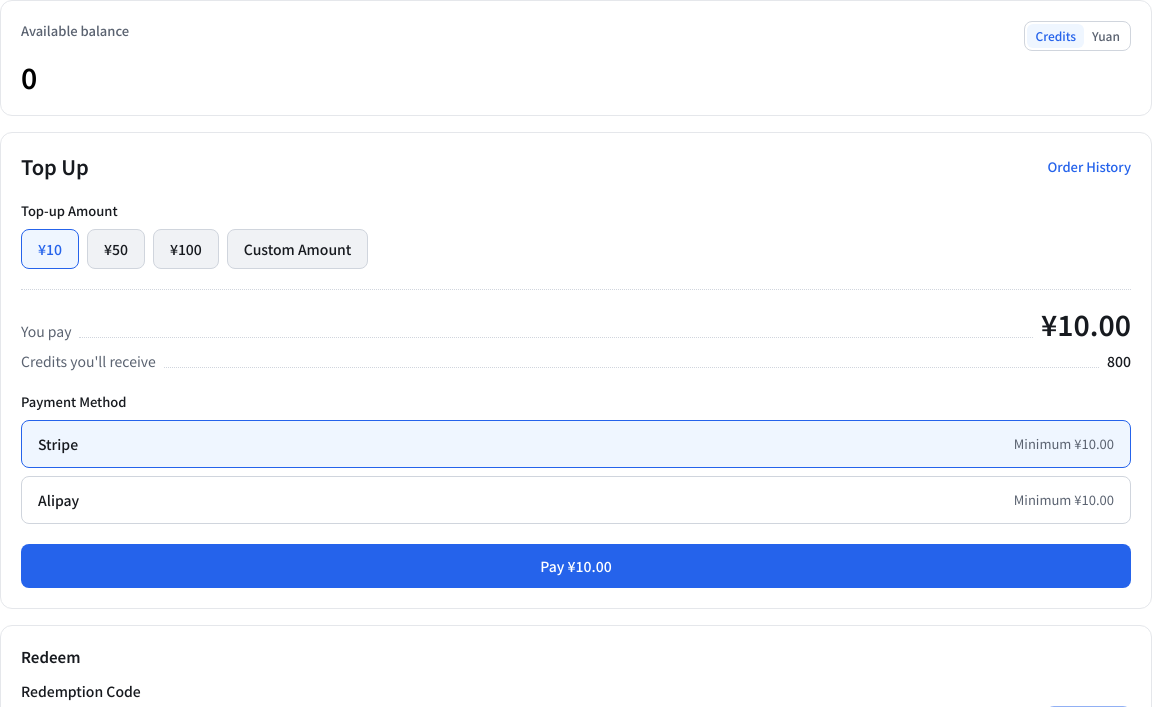
Test case: TopupPage › previews credits with the group ratio in the card and confirm dialog
Step 1. Click the radio button labelled "¥100" → (186, 249), box [153,229,219,269]
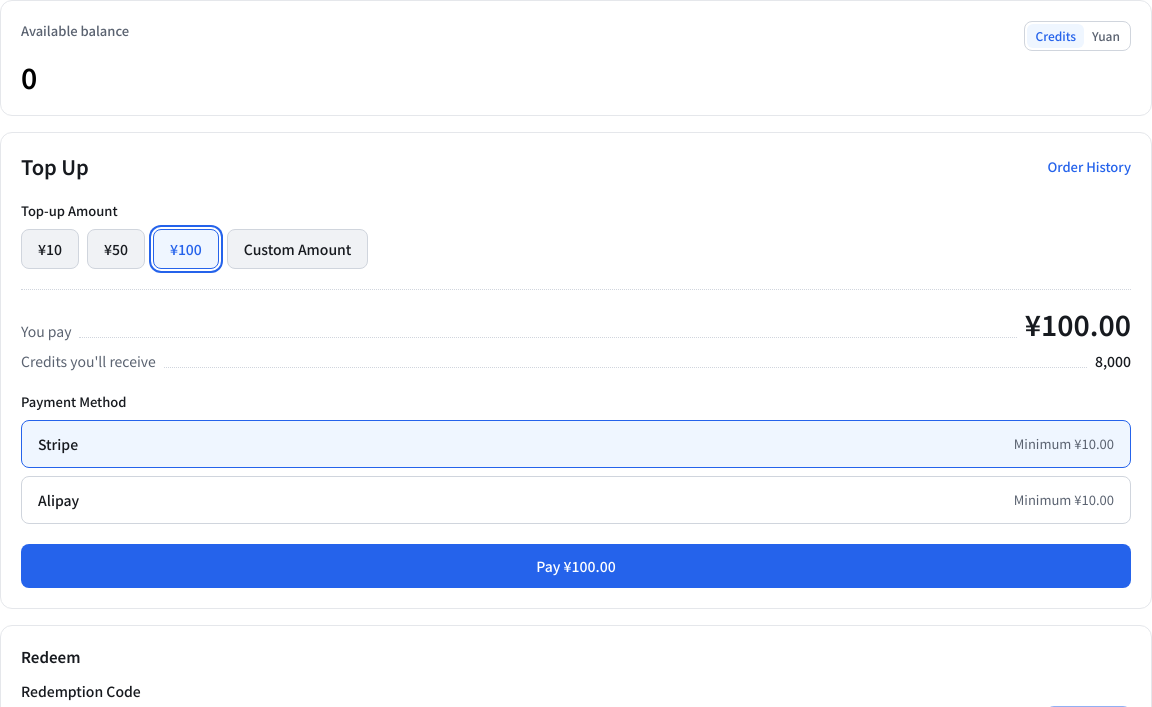
expect the text with test id "summary-credits" reads "8,000": met, box [1095,351,1131,371]
Step 2. Click the button "Pay ¥100.00" → (576, 566), box [21,544,1131,588]
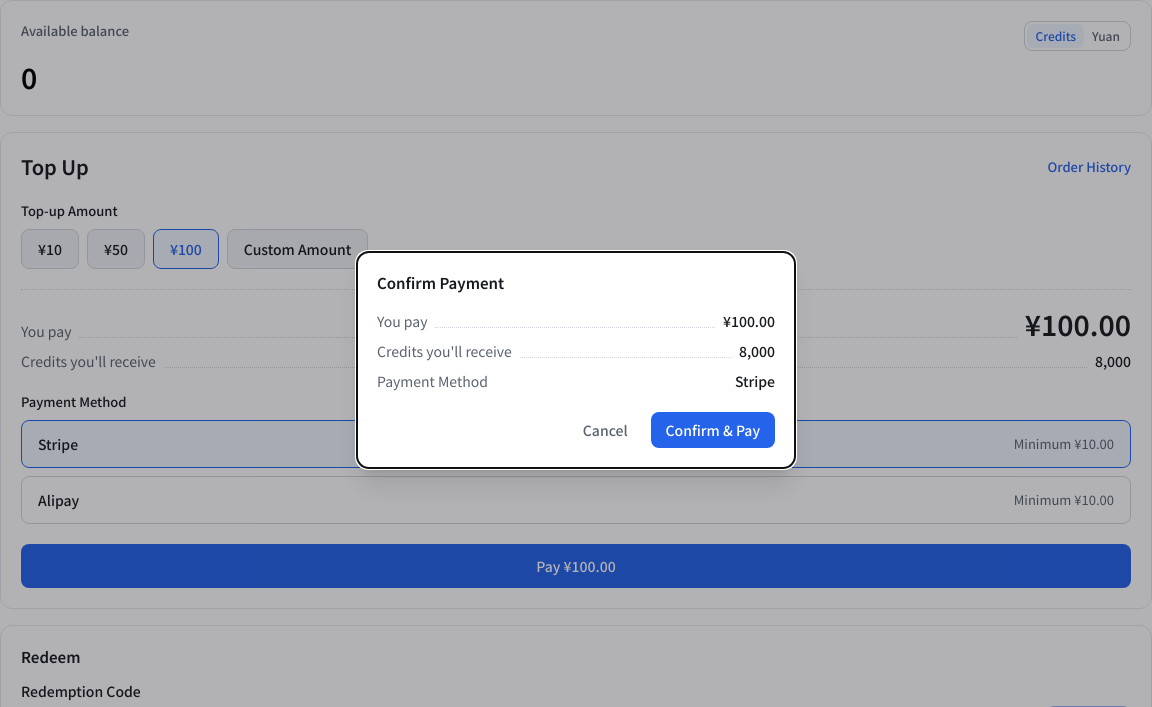
expect the text "8,000" is shown: met, box [739,340,775,362]
